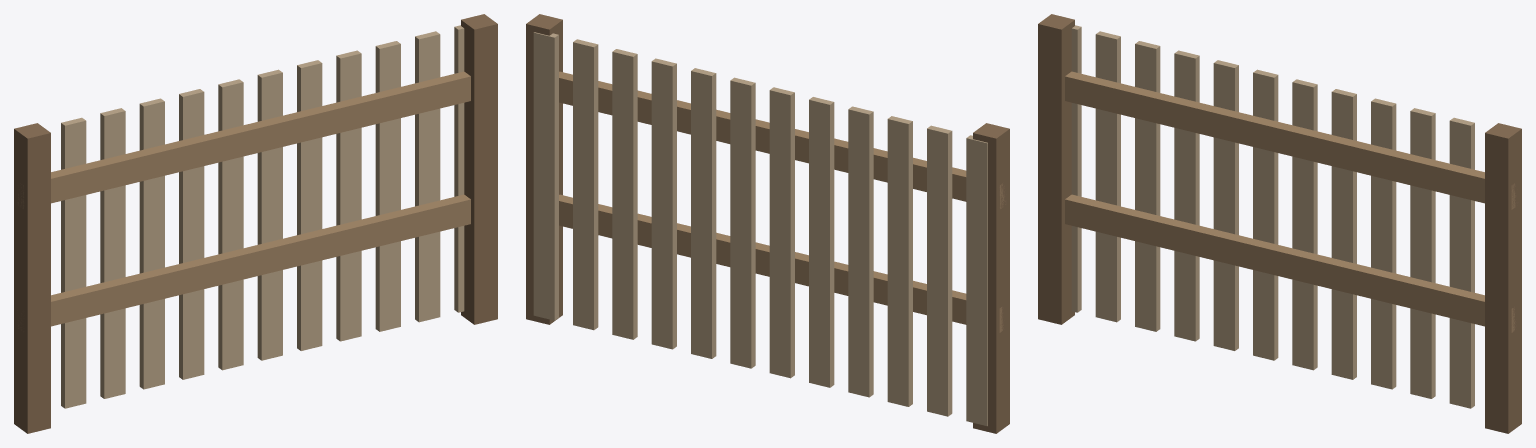
File: Cit_Ahsap_2m.glb
3 views of the same model, side by side, from view 1: azimuth 30°, elevation 25°; view 2: azimuth 150°, elevation 25°; view 3: azimuth 330°, elevation 25° (orthographic).
Visible parts, largest first — view 1: Cit_Ahsap_2m; view 2: Cit_Ahsap_2m; view 3: Cit_Ahsap_2m.
Boxes of the visible parts, <box> form: Cit_Ahsap_2m: <box>14,14,497,433</box>; Cit_Ahsap_2m: <box>526,14,1009,433</box>; Cit_Ahsap_2m: <box>1038,14,1521,433</box>.
Bounding box in the file's own units: 2 × 1.2 × 0.105.
